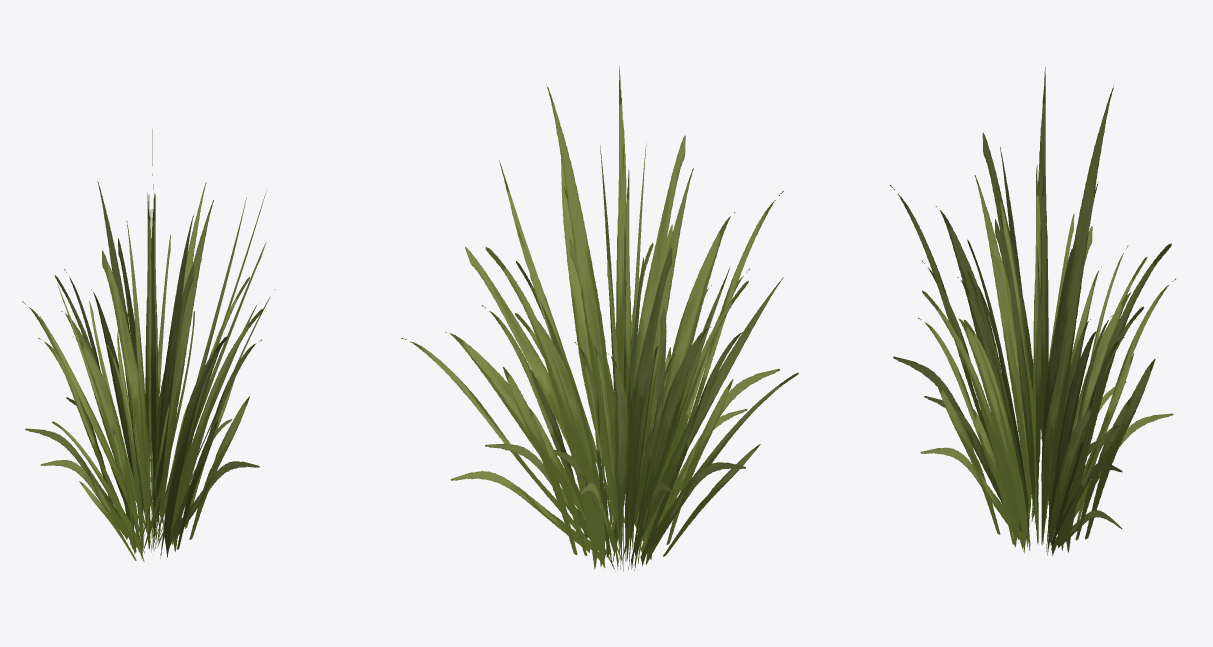
Rendered from co sap heo.fbx.
3 views of the same model, side by side, from view 1: azimuth 30°, elevation 25°; view 2: azimuth 150°, elevation 25°; view 3: azimuth 270°, elevation 25° (orthographic). The views are drawn at different scales.
Parts seen in each view (by area): view 1: Plane.041; view 2: Plane.041; view 3: Plane.041.
Boxes of the visible parts, x1,y1,x2,y2 form: Plane.041: (22,129,275,561); Plane.041: (401,66,798,571); Plane.041: (890,67,1175,555).
Size of the model in its own units: 41.88 by 52.64 by 28.31.
